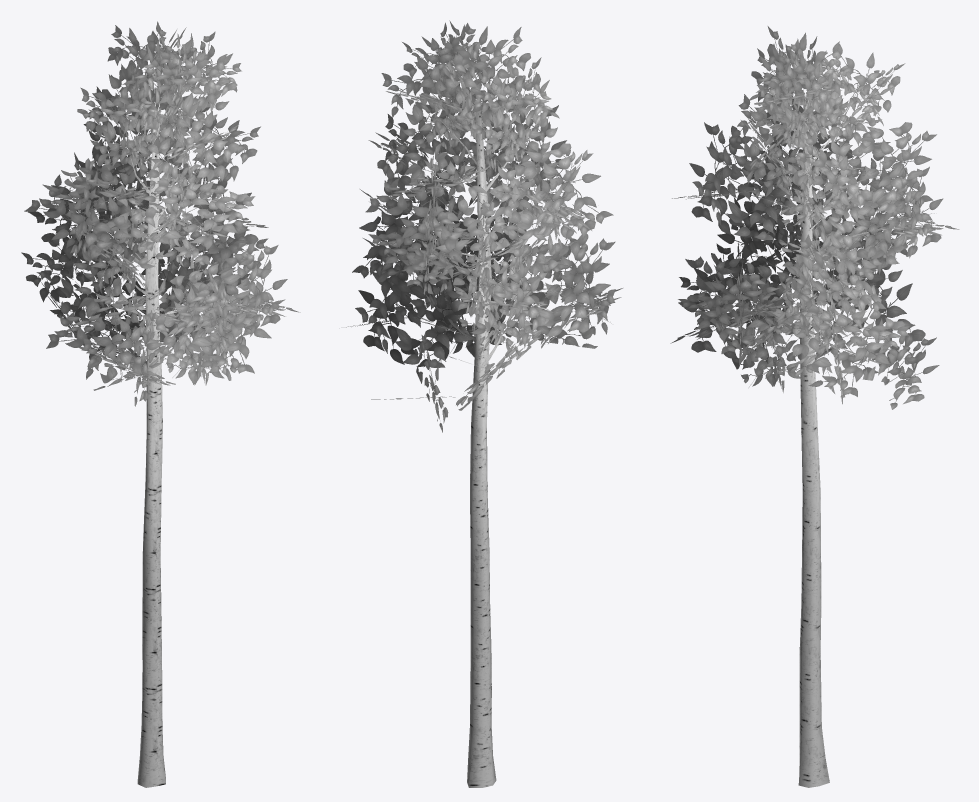
The model's file is Birch_01.fbx.
3 renders of one model, left to right at view 1: azimuth 30°, elevation 25°; view 2: azimuth 150°, elevation 25°; view 3: azimuth 270°, elevation 25°, orthographic.
Visible parts, largest first — view 1: FAE_Birch_A_LOD0; view 2: FAE_Birch_A_LOD0; view 3: FAE_Birch_A_LOD0.
Boxes of the visible parts, x1,y1,x2,y2 form: FAE_Birch_A_LOD0: (21,21,300,787); FAE_Birch_A_LOD0: (346,20,622,787); FAE_Birch_A_LOD0: (670,26,959,787).
Size of what is drawn, in the model's own units: 797 by 2234 by 815.
